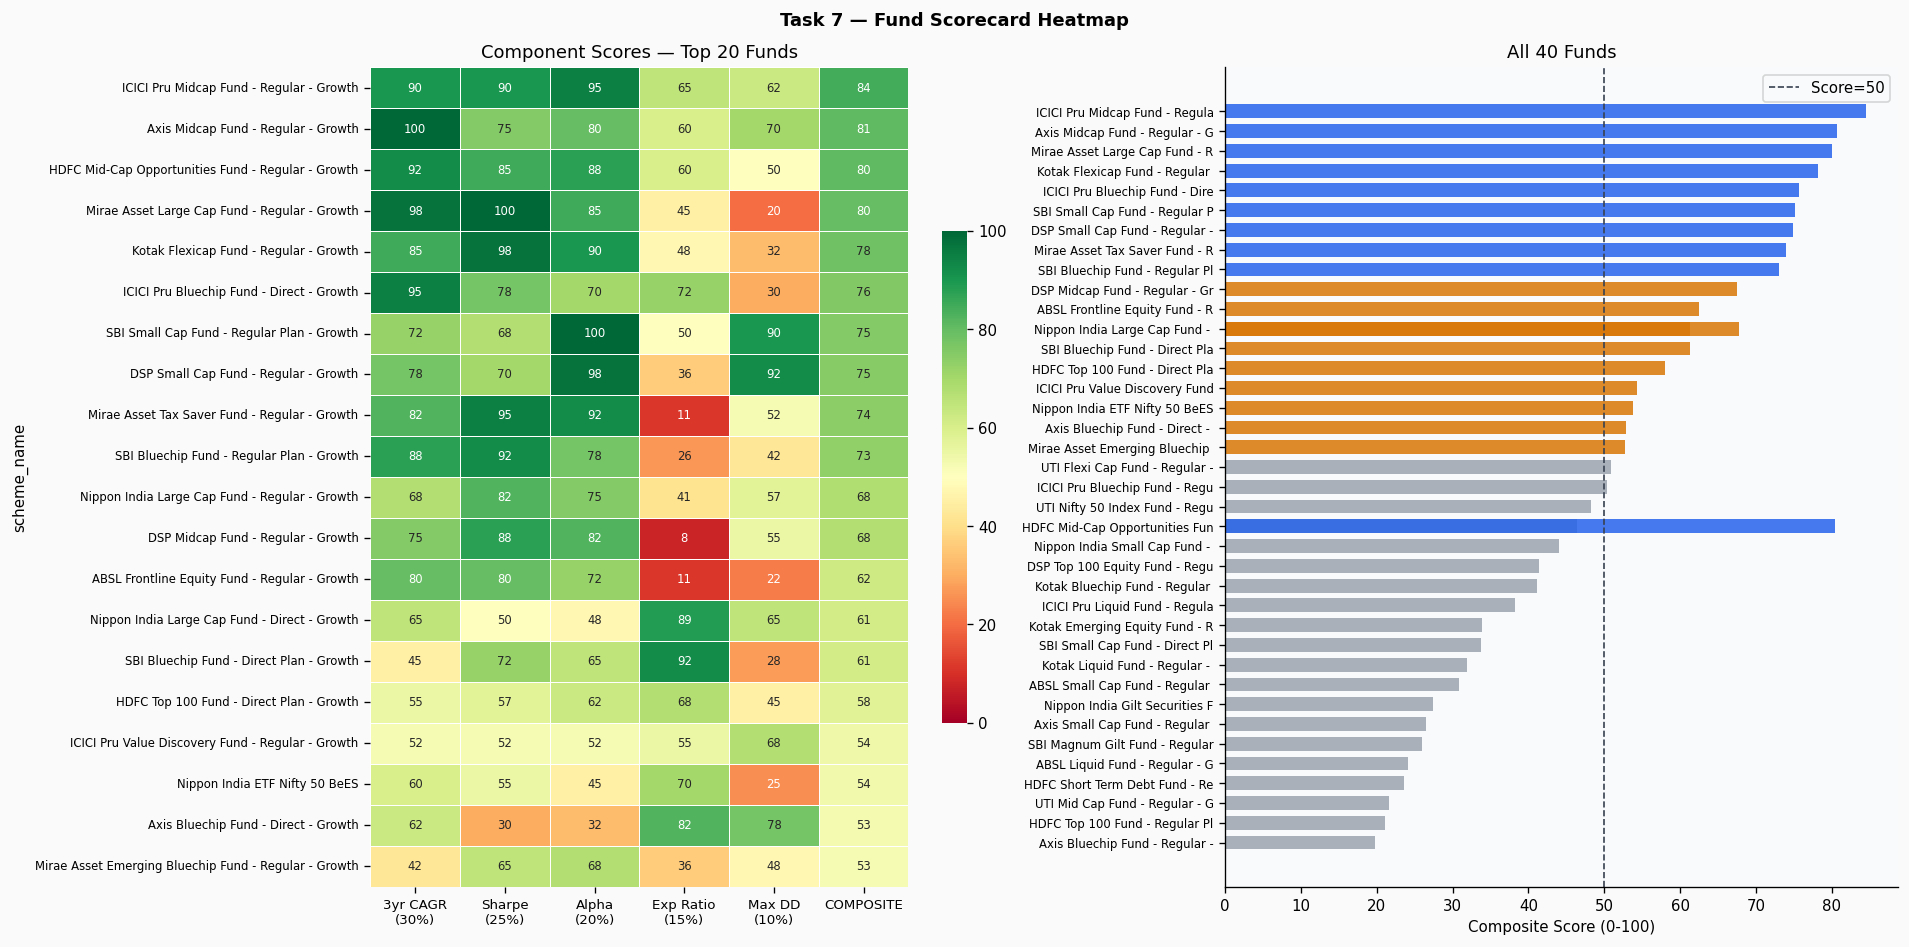

The dashboard page shown, as its layout file describes it:
{"tool":"powerbi","page":{"name":"Fund Performance","canvas":[1280,720],"ordinal":1},"visuals":[{"type":"textbox","box":[9.6,0,1261.1,71.4],"z":0},{"type":"cardVisual","fields":{"Rows":["Sheet1 (7).fund_house"]},"box":[9.6,61.7,439.1,225],"z":1000},{"type":"cardVisual","fields":{"Rows":["Sheet1 (7).category"]},"box":[448.7,61.7,437.7,225],"z":2000},{"type":"cardVisual","fields":{"Rows":["Sheet1 (7).plan"]},"box":[864.5,61.7,415.8,207.2],"z":3000},{"type":"scatterChart","fields":{"X":["Sum(Sheet1 (7).return_3yr_pct)"],"Y":["Sum(Sheet1 (7).std_dev_ann_pct)"],"Size":["Sum(Sheet1 (7).aum_crore)"],"Series":["Sheet1 (7).category"]},"box":[0,286.8,1280.3,216.8],"z":4000},{"type":"tableEx","fields":{"Values":["Sheet1 (7).scheme_name","Sum(Sheet1 (7).return_1yr_pct)","Sum(Sheet1 (7).return_3yr_pct)","Sum(Sheet1 (7).return_5yr_pct)","Sum(Sheet1 (7).sharpe_ratio)","Sum(Sheet1 (7).alpha)","Sum(Sheet1 (7).beta)","Sum(Sheet1 (7).expense_ratio_pct)","Sheet1 (7).risk_grade"]},"box":[16.5,503.6,595.5,216.8],"z":5000},{"type":"lineChart","fields":{"Category":["Sheet1 (2).date"],"Y":["Sum(Sheet1 (2).nav)"],"Y2":["Sum(Sheet1 (7).benchmark_3yr_pct)"]},"box":[612,503.6,658.7,216.8],"z":6000}]}

Visuals, with their boxes on the page's 1280x720 design canvas (x1, y1, x2, y2). These are canvas units, not pixel positions in the 1909x947 screenshot, which may show the page scaled, cropped or inside an application window:
textbox: bbox=(10, 0, 1271, 71)
cardVisual - Sheet1 (7).fund_house: bbox=(10, 62, 449, 287)
cardVisual - Sheet1 (7).category: bbox=(449, 62, 886, 287)
cardVisual - Sheet1 (7).plan: bbox=(864, 62, 1280, 269)
scatterChart - Sum(Sheet1 (7).return_3yr_pct) x Sum(Sheet1 (7).std_dev_ann_pct): bbox=(0, 287, 1280, 504)
tableEx - Sheet1 (7).scheme_name x Sum(Sheet1 (7).return_1yr_pct): bbox=(16, 504, 612, 720)
lineChart - Sheet1 (2).date x Sum(Sheet1 (2).nav): bbox=(612, 504, 1271, 720)
